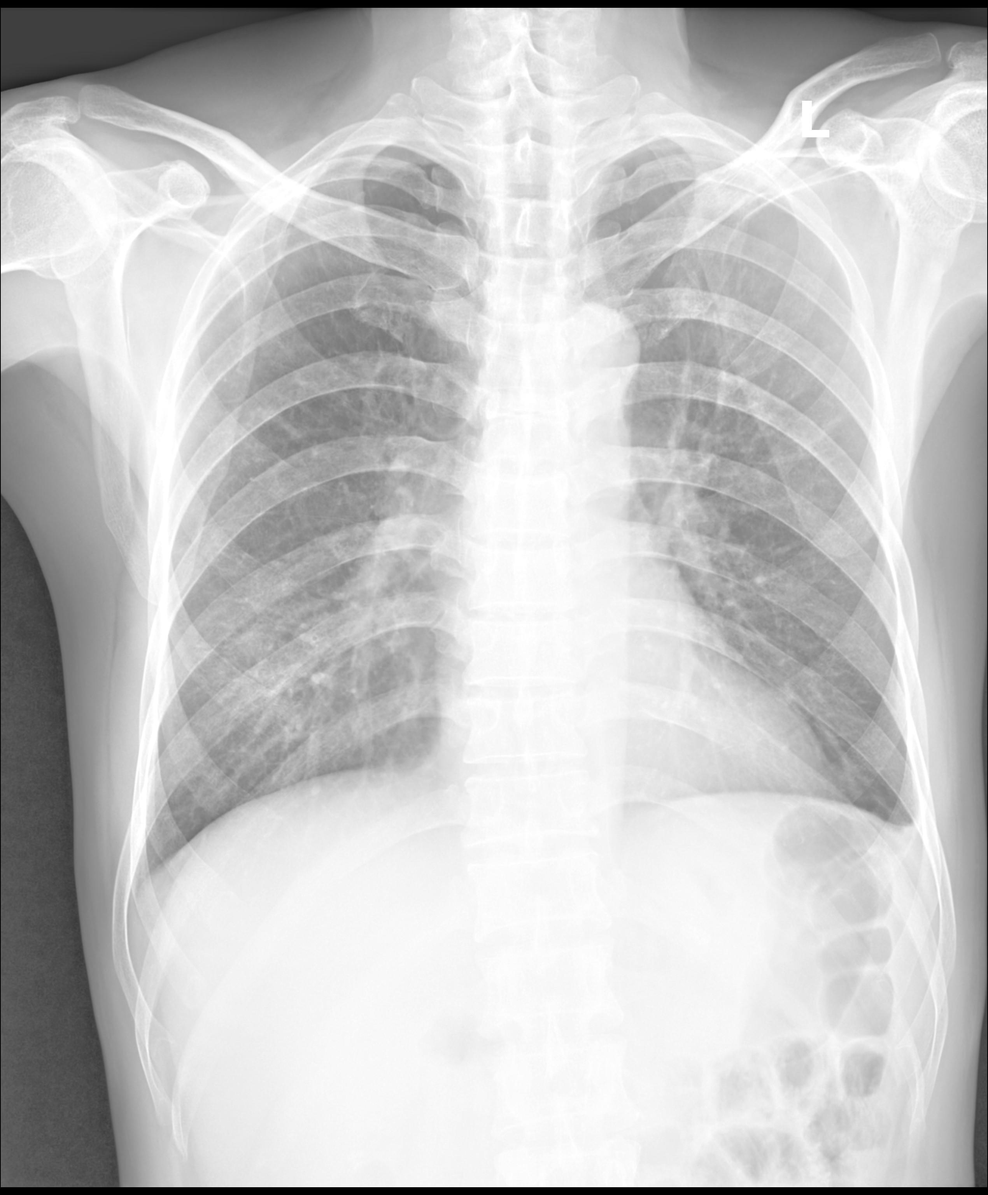Pleural thickening: (889, 811, 934, 864)
